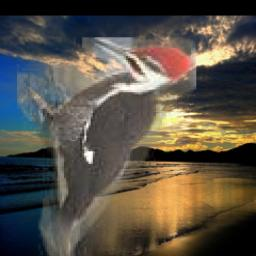Woodpecker: (17, 38, 196, 256)
